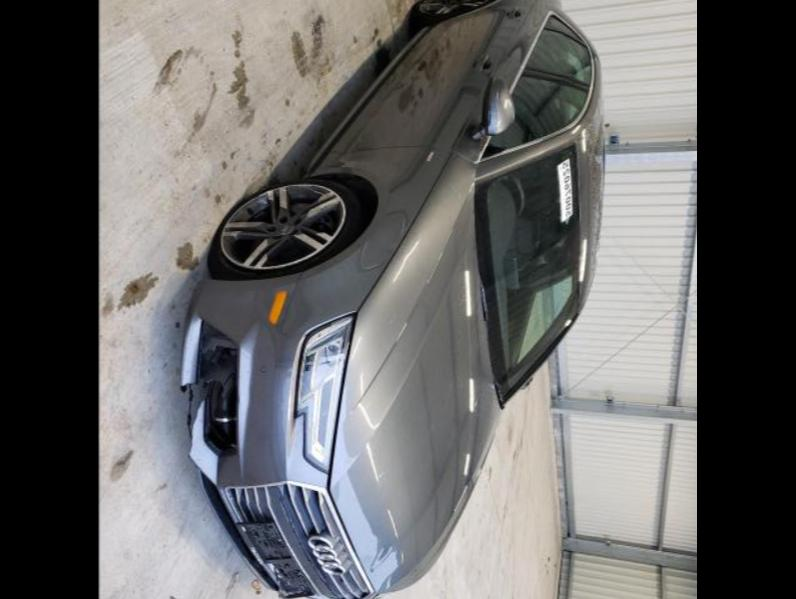Broken part: (180, 276, 328, 490)
Missing part: (240, 524, 314, 596)
